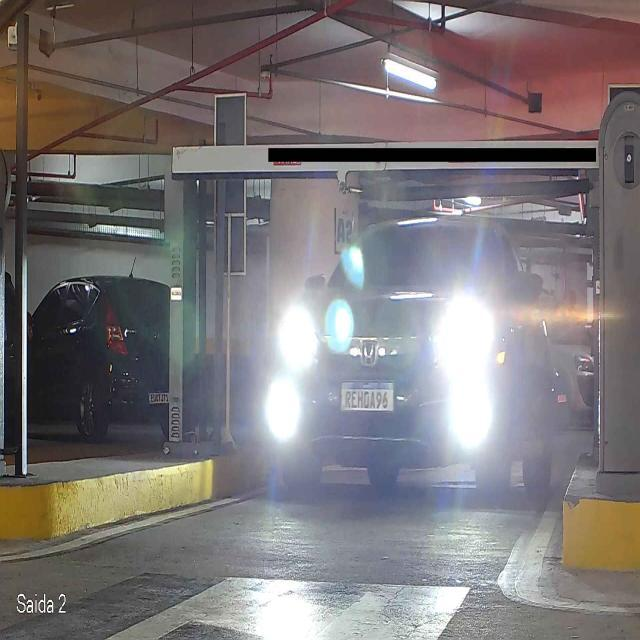mercosul_plate: (338, 380, 396, 414)
